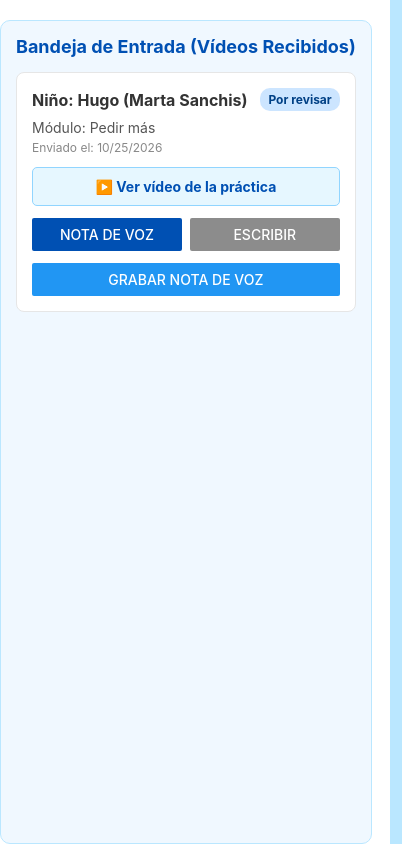
UT 1099 · Dar feedback a una práctica › Elena escribe el feedback en vez de grabarlo, lo envía y la práctica sale de sus pendientes
This screenshot has width=402, height=844.
Click the button "Escribir" at point(265, 234), box [190,218,340,251]
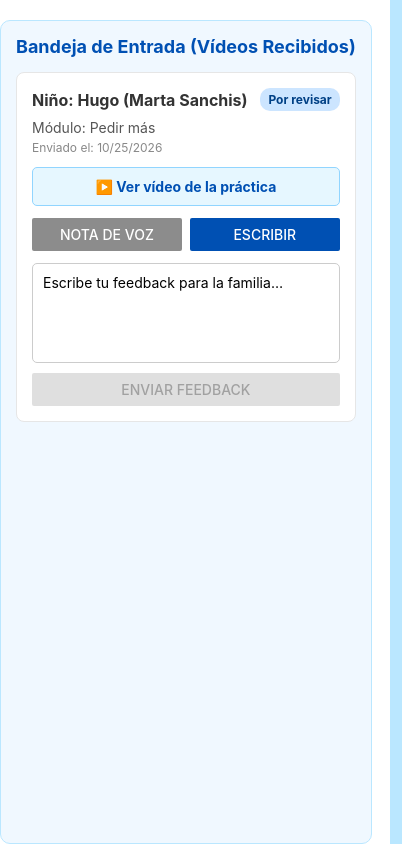
Type "Muy bien, Marta. Espera un poco más antes de darle el pompero." into the text box with placeholder "Escribe tu feedback para la familia…" at point(186, 313), box [32,263,340,363]
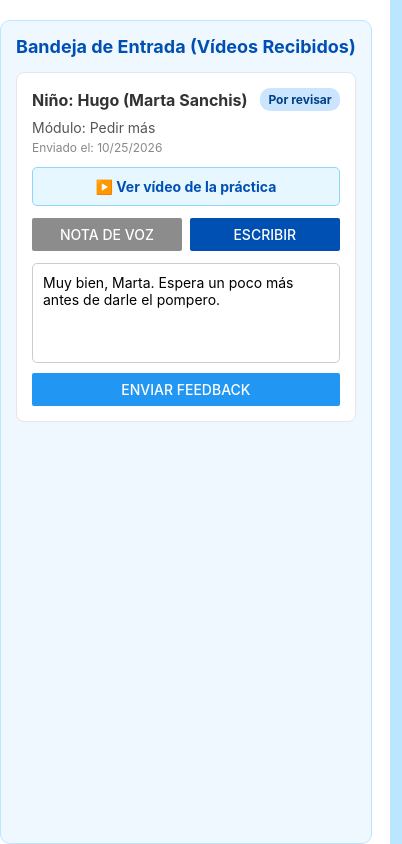
Click the button "Enviar feedback" at point(186, 390), box [32,373,340,406]
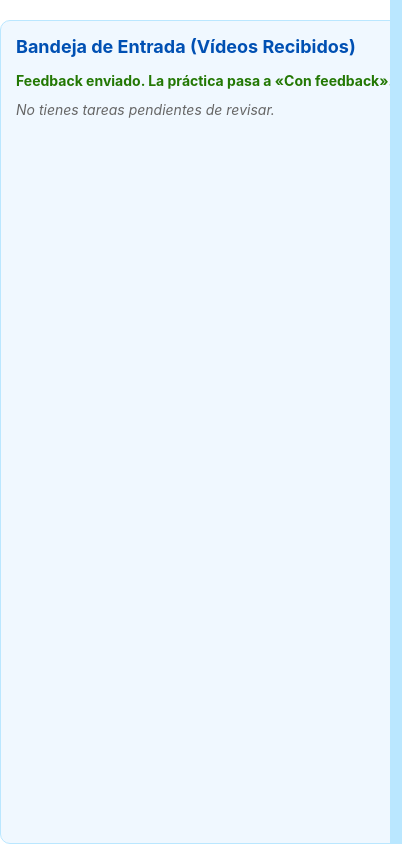
Result: the text "Módulo: Pedir más" is gone
